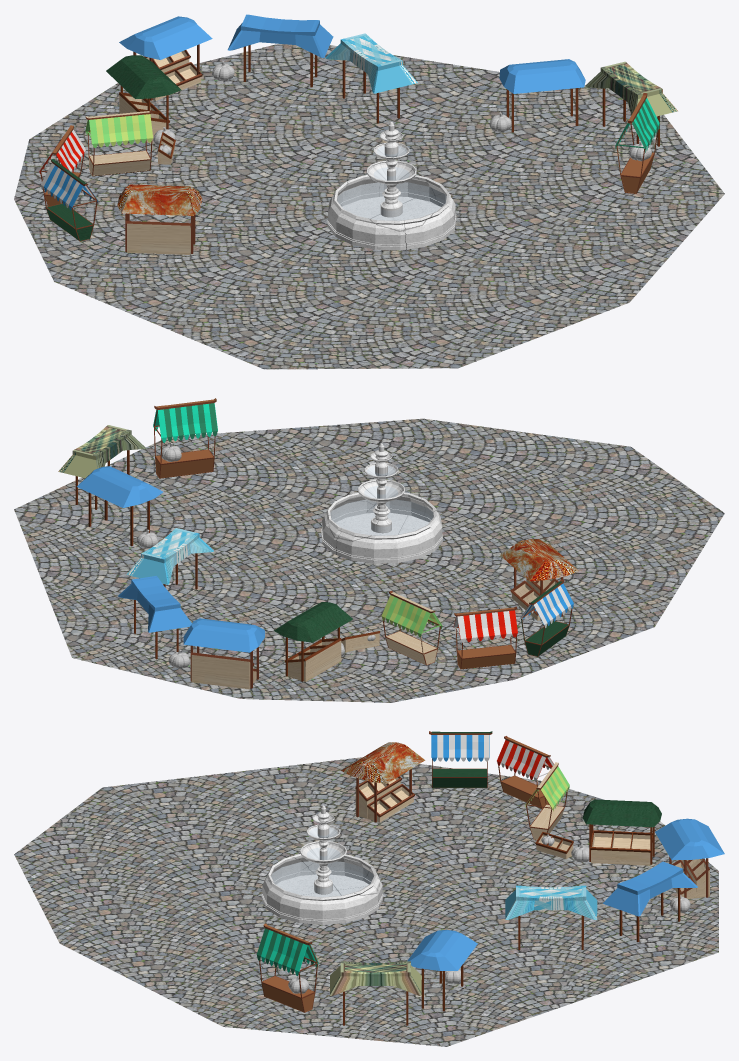
File: FarmersMarket 2.fbx
3 renders of one model, top to bottom at view 1: azimuth 30°, elevation 25°; view 2: azimuth 150°, elevation 25°; view 3: azimuth 270°, elevation 25°, orthographic. The views are drawn at different scales.
Visible parts, largest first — view 1: Plane, Cylinder, Cube.029, Cube.028, Cube.024, Cube.030, Cube.027, Cube.032, Cube.031, Cube.022, Cube.033, Cube.034 (+1 smaller); view 2: Plane, Cylinder, Cube.028, Cube.027, Cube.034, Cube.023, Cube.029, Cube.024, Cube.031, Cube.032, Cube.030, Cube.033 (+2 smaller); view 3: Plane, Cylinder, Cube.027, Cube.029, Cube.034, Cube.028, Cube.022, Cube.030, Cube.032, Cube.033, Cube.031, Cube.023 (+2 smaller).
Part boxes in pixels (box(x1,y1,x2,y2)): Plane: box(14, 43, 724, 369); Cylinder: box(327, 122, 456, 250); Cube.029: box(117, 184, 202, 254); Cube.028: box(119, 16, 212, 100); Cube.024: box(85, 110, 153, 176); Cube.030: box(227, 14, 333, 87); Cube.027: box(106, 55, 181, 141); Cube.032: box(325, 33, 417, 123); Cube.031: box(499, 59, 585, 132); Cube.022: box(41, 159, 98, 241); Cube.033: box(585, 61, 677, 146); Cube.034: box(615, 93, 659, 193); Plane: box(14, 418, 724, 702); Cylinder: box(321, 443, 442, 563); Cube.028: box(183, 618, 264, 689); Cube.027: box(274, 602, 352, 681); Cube.034: box(153, 398, 217, 478); Cube.023: box(453, 606, 517, 669); Cube.029: box(500, 539, 578, 620); Cube.024: box(381, 590, 442, 665); Cube.031: box(77, 466, 163, 546); Cube.032: box(126, 528, 213, 589); Cube.030: box(118, 575, 191, 659); Cube.033: box(58, 425, 145, 509); Plane: box(14, 757, 718, 1046); Cylinder: box(261, 805, 383, 924); Cube.027: box(582, 799, 661, 865); Cube.029: box(341, 742, 425, 822); Cube.034: box(256, 923, 318, 1012); Cube.028: box(655, 818, 724, 898); Cube.022: box(429, 731, 492, 787); Cube.030: box(603, 861, 697, 942); Cube.032: box(505, 885, 597, 949); Cube.033: box(330, 961, 421, 1025); Cube.031: box(407, 929, 477, 1011); Cube.023: box(497, 736, 554, 808).
Size of the model in its own units: 9936 by 1531 by 10280.
